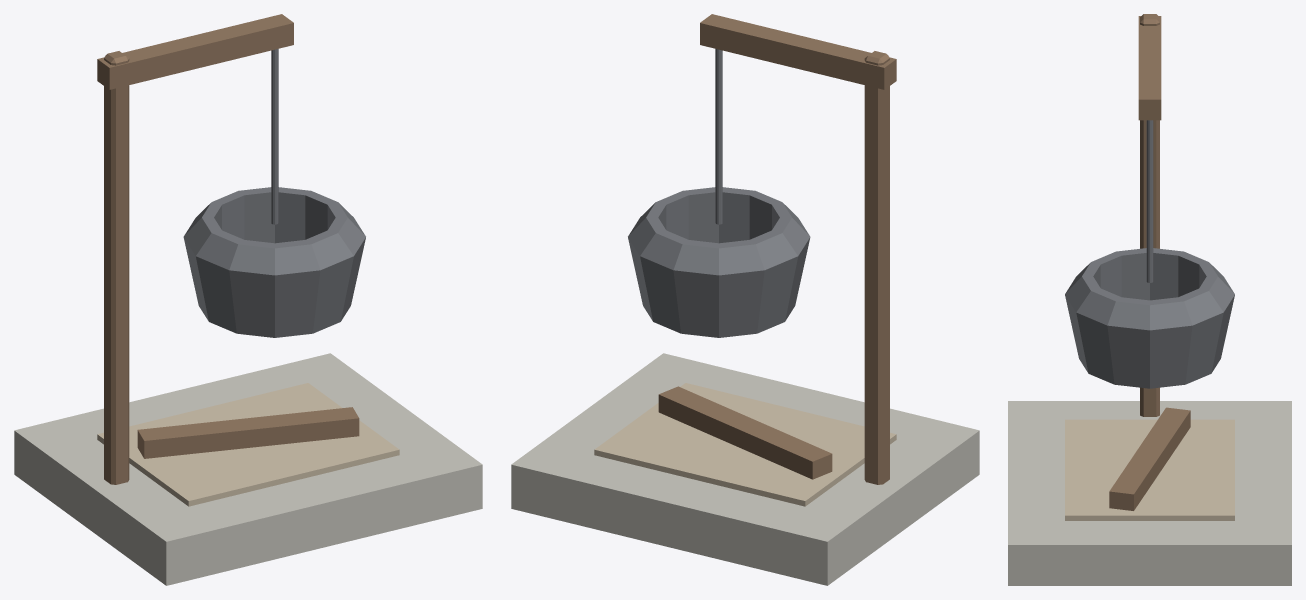
Rendered from feudal-japan-castle-town-cooking-hearth-4a5993e3__26449.glb.
3 renders of one model, left to right at view 1: azimuth 30°, elevation 25°; view 2: azimuth 150°, elevation 25°; view 3: azimuth 270°, elevation 25°, orthographic. The views are drawn at different scales.
Parts seen in each view (by area): view 1: cooking-hearth; view 2: cooking-hearth; view 3: cooking-hearth.
Boxes of the visible parts, box(x1,y1,x2,y2) form: cooking-hearth: box(14, 14, 482, 585); cooking-hearth: box(511, 14, 979, 585); cooking-hearth: box(1008, 14, 1291, 585).
Bounding box in the file's own units: 1.2 × 1.7 × 1.
